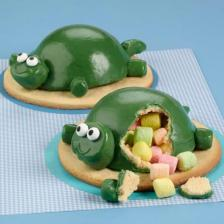green: (9, 25, 147, 97), (86, 87, 196, 171)
